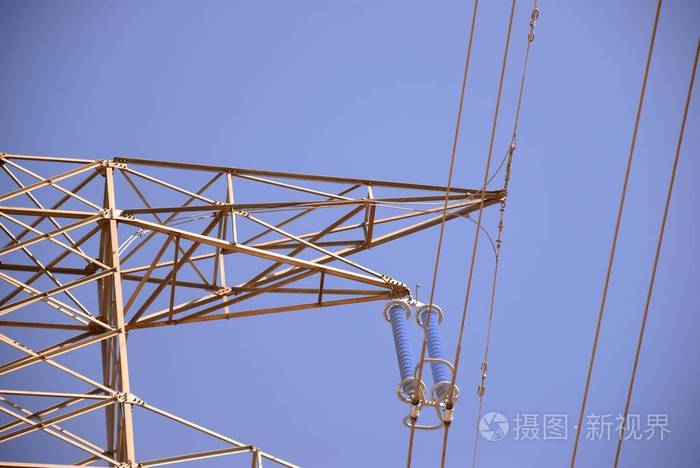insulator: (387, 304, 415, 386), (423, 310, 451, 389)
